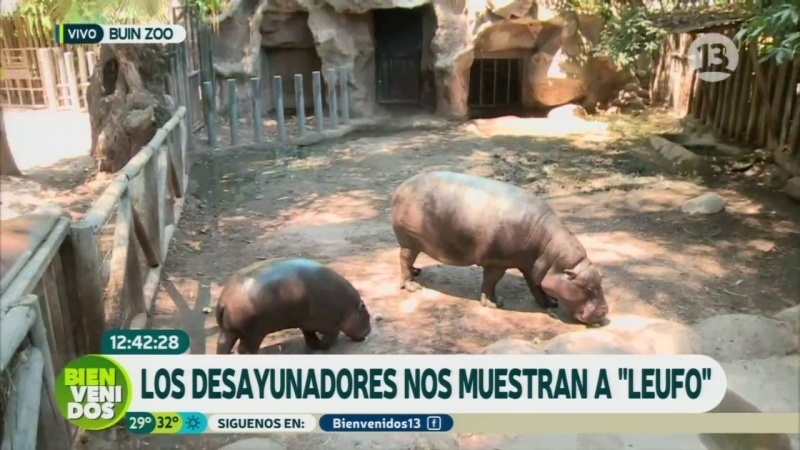hipopotamo: (378, 161, 621, 334), (204, 250, 375, 352)
